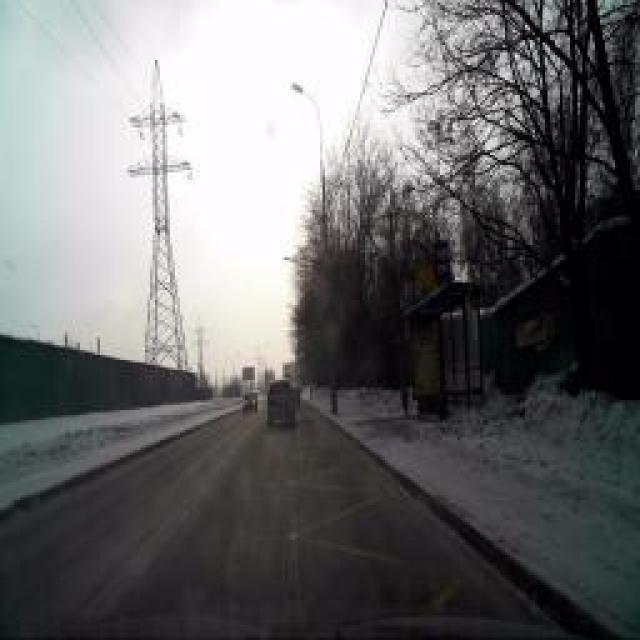sign: (434, 241, 451, 284)
